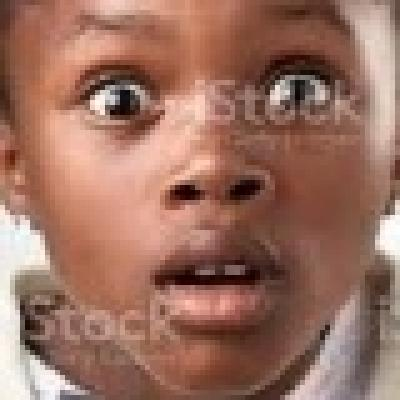surprise: (43, 0, 374, 378)
